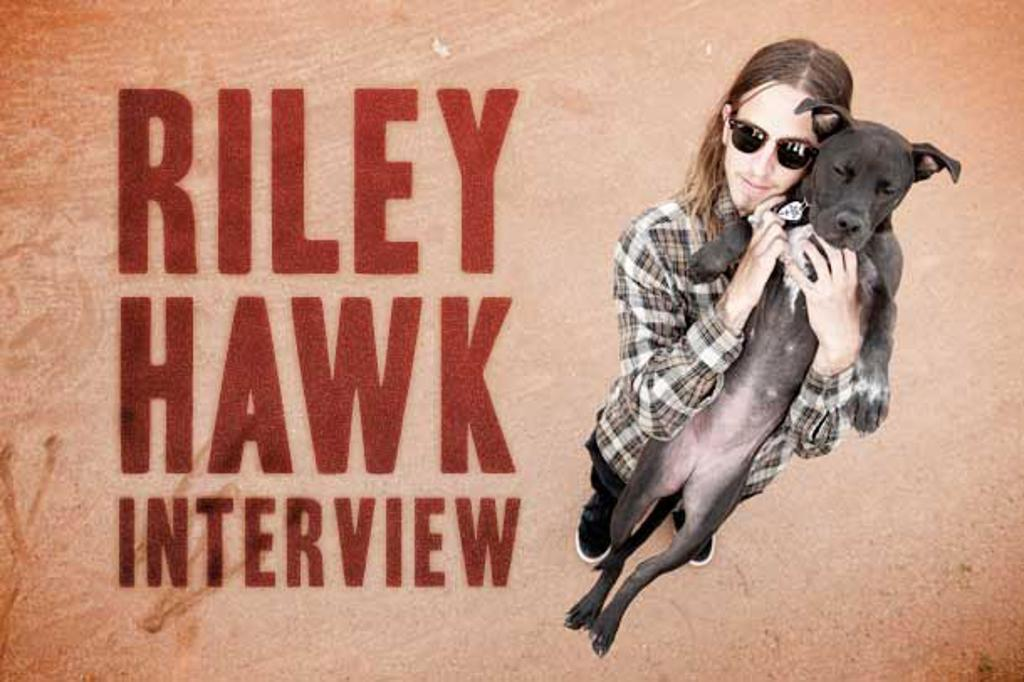face: (725, 91, 805, 215)
